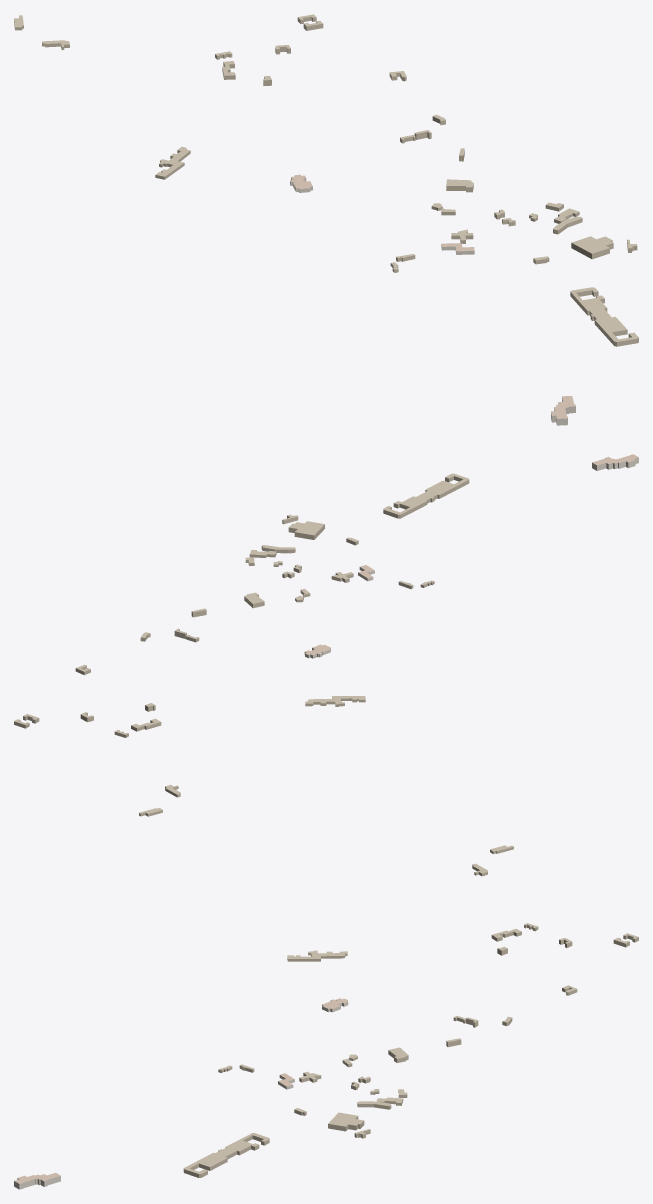
3 views of the same model, one above another, from view 1: azimuth 30°, elevation 25°; view 2: azimuth 150°, elevation 25°; view 3: azimuth 330°, elevation 25° (orthographic). The views are drawn at different scales.
Size of the model in its own units: 725 by 37.37 by 2406.
